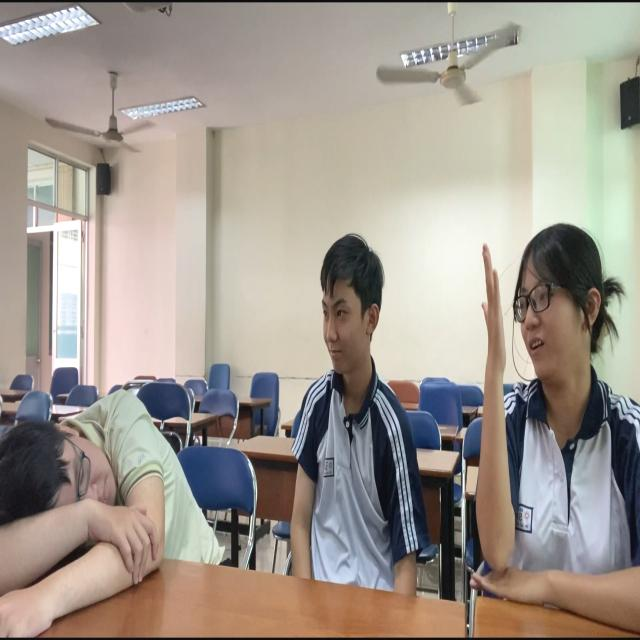raise_hand: (455, 191, 640, 640)
sleep: (1, 371, 224, 640)
